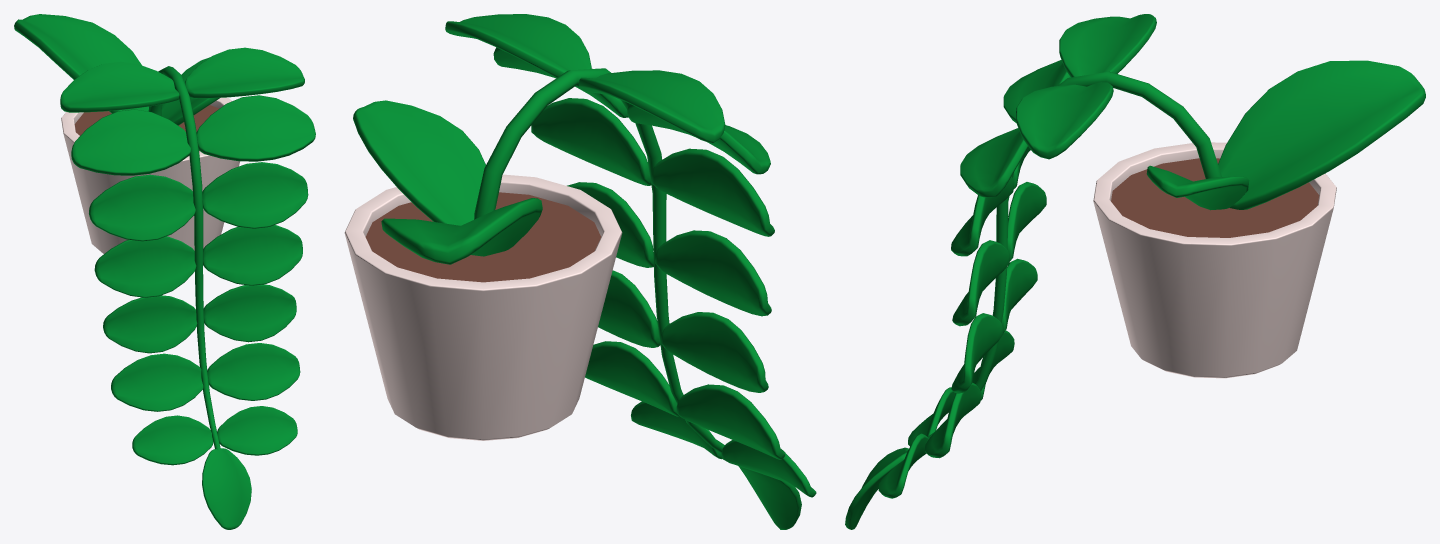
The model's file is Store_6_Plant_2.glb.
3 views of the same model, side by side, from view 1: azimuth 30°, elevation 25°; view 2: azimuth 150°, elevation 25°; view 3: azimuth 270°, elevation 25° (orthographic). The views are drawn at different scales.
Parts seen in each view (by area): view 1: Store_6_Plant_2; view 2: Store_6_Plant_2; view 3: Store_6_Plant_2.
Boxes of the visible parts, x1,y1,x2,y2 form: Store_6_Plant_2: [14, 14, 315, 529]; Store_6_Plant_2: [344, 14, 816, 529]; Store_6_Plant_2: [845, 14, 1425, 529].
Size of the model in its own units: 1.2 by 1.87 by 1.97.
1 material, 1 textured.
